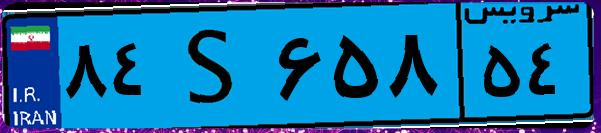4: (525, 38, 570, 115), (110, 28, 158, 98)
5: (330, 28, 385, 110), (475, 38, 525, 113)
6: (270, 28, 330, 110)
8: (385, 28, 445, 110), (57, 26, 110, 100)
S: (158, 12, 270, 120)
